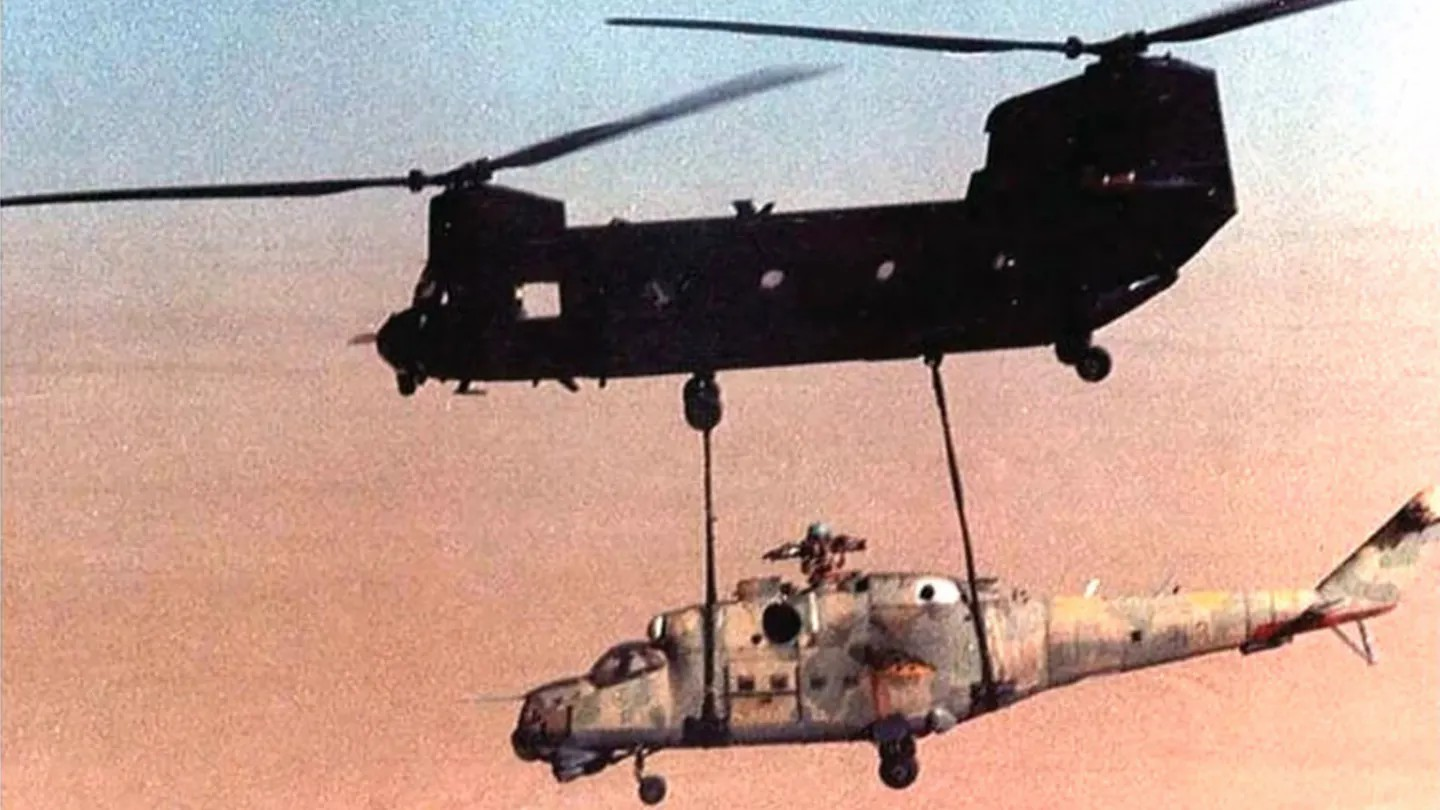Mil Mi-35: (505, 474, 1418, 810)
chinook: (340, 58, 1288, 413)
